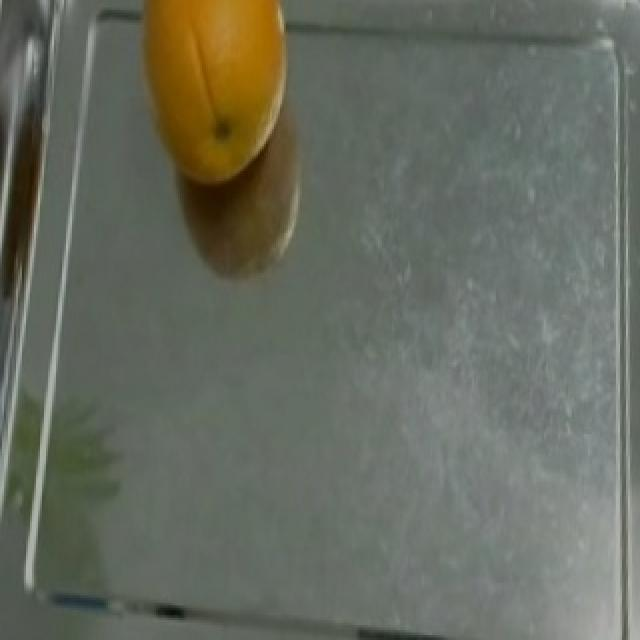Fruit: (126, 0, 308, 201)
